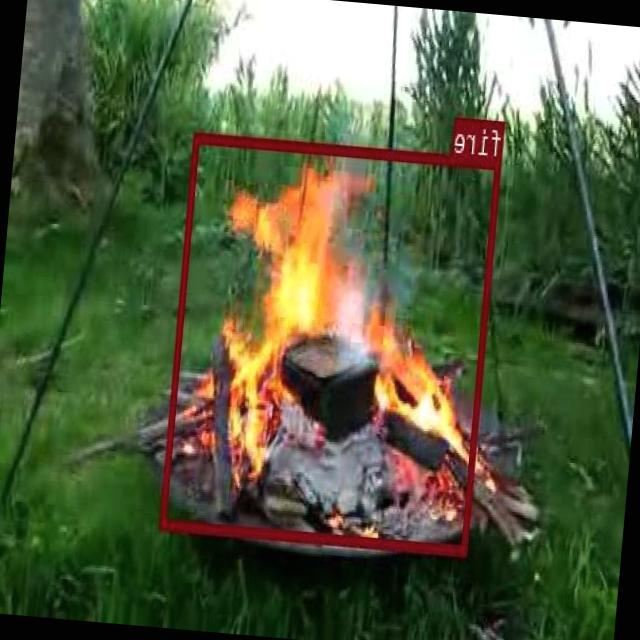fire: (160, 131, 502, 554)
